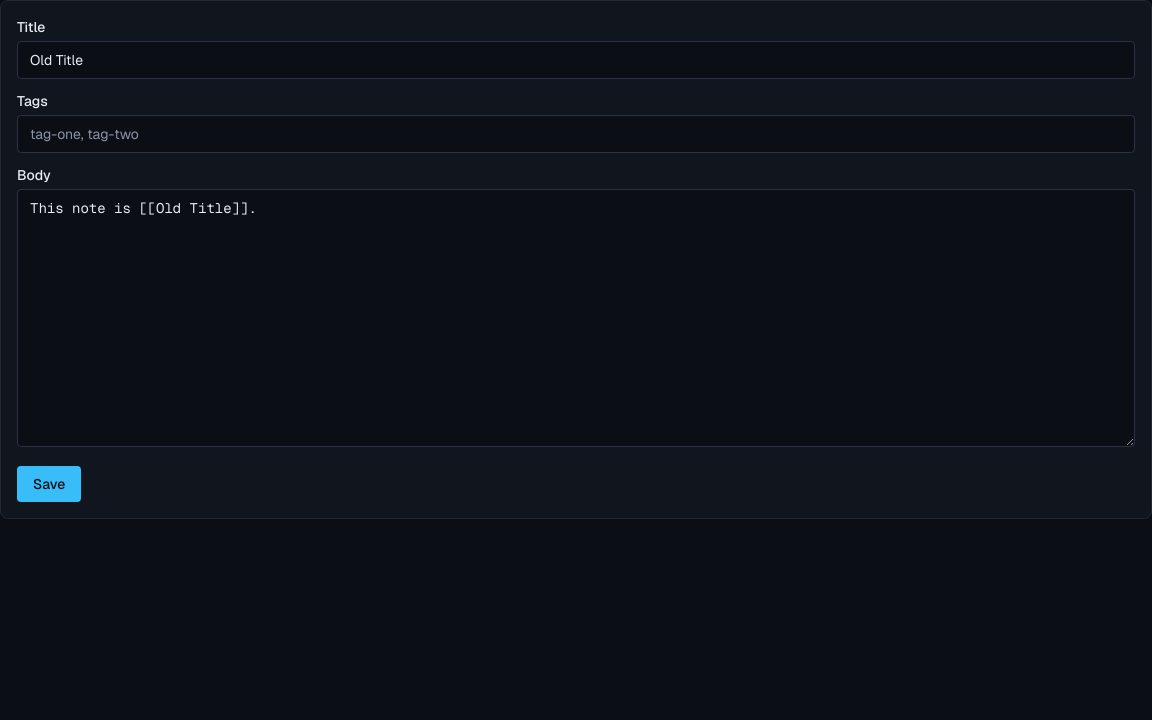
Scenario: NodeEditor › shows the reason a rename was refused instead of the reload prompt
The width and height of the screenshot is (1152, 720).
Click the button "Save" at coordinates (49, 484), box [17, 466, 81, 502]
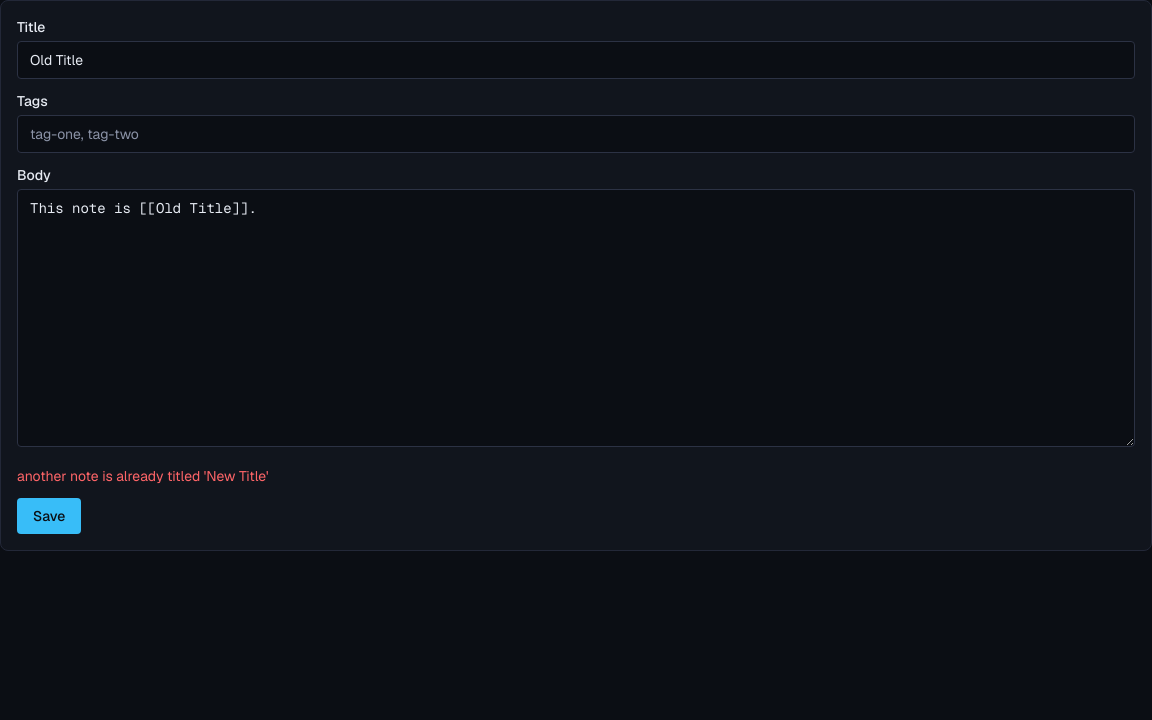
Now the text "another note is already titled 'New Title'" is shown, box [17, 467, 268, 485]
